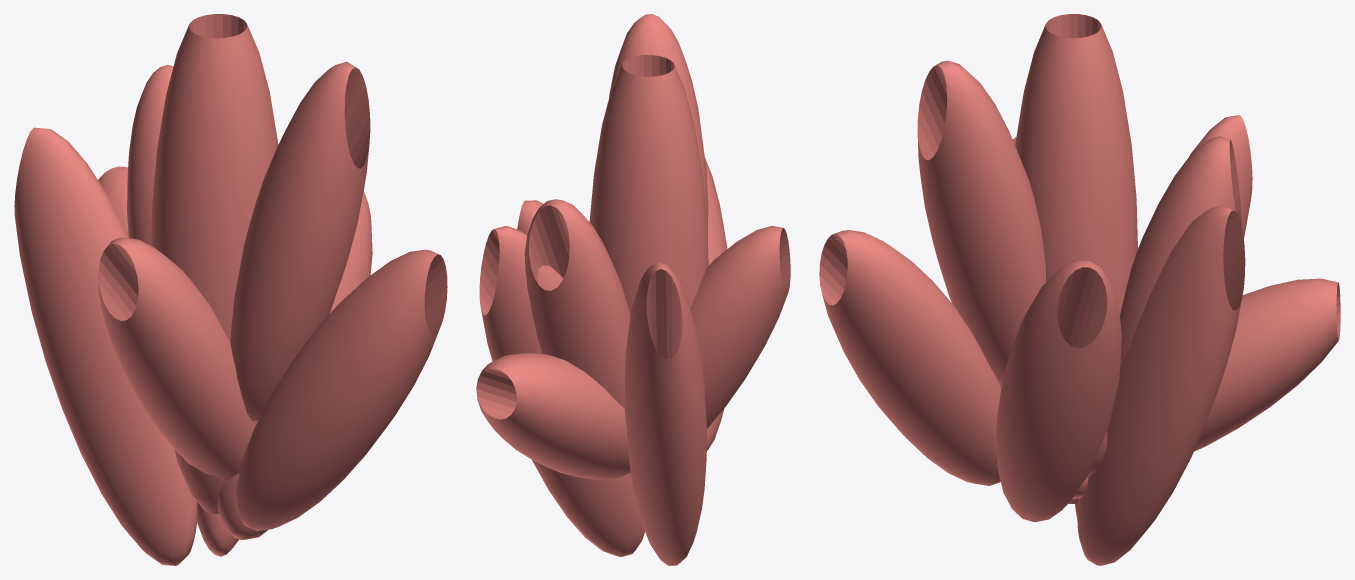
The model's file is corail_tubes - Copy.fbx.
3 renders of one model, left to right at view 1: azimuth 30°, elevation 25°; view 2: azimuth 150°, elevation 25°; view 3: azimuth 270°, elevation 25°, orthographic. The views are drawn at different scales.
Visible parts, largest first — view 1: pSphere9, pSphere6, pSphere3, corail_TUBES, pSphere5, pSphere2, pSphere4, pSphere8, pSphere7; view 2: corail_TUBES, pSphere9, pSphere7, pSphere2, pSphere8, pSphere5, pSphere3, pSphere6, pSphere4; view 3: pSphere8, pSphere6, pSphere3, corail_TUBES, pSphere4, pSphere7, pSphere2, pSphere9.
Boxes of the visible parts, x1,y1,x2,y2 form: pSphere9: (14, 127, 197, 565); pSphere6: (235, 249, 447, 531); pSphere3: (230, 61, 370, 421); corail_TUBES: (151, 14, 278, 513); pSphere5: (98, 237, 257, 480); pSphere2: (127, 65, 173, 245); pSphere4: (217, 191, 372, 540); pSphere8: (197, 502, 238, 556); pSphere7: (98, 166, 128, 235); corail_TUBES: (589, 55, 708, 314); pSphere9: (624, 262, 707, 565); pSphere7: (476, 353, 630, 479); pSphere2: (524, 199, 630, 408); pSphere8: (479, 225, 644, 556); pSphere5: (690, 226, 790, 428); pSphere3: (609, 14, 708, 236); pSphere6: (705, 158, 727, 450); pSphere4: (517, 200, 543, 235); pSphere8: (1077, 204, 1245, 565); pSphere6: (819, 230, 1001, 485); pSphere3: (917, 60, 1046, 387); corail_TUBES: (1015, 14, 1137, 503); pSphere4: (996, 260, 1121, 522); pSphere7: (1088, 278, 1340, 476); pSphere2: (1120, 136, 1241, 366); pSphere9: (1075, 115, 1252, 518).
Bounding box in the file's own units: 0.6828 × 1.26 × 1.13.
